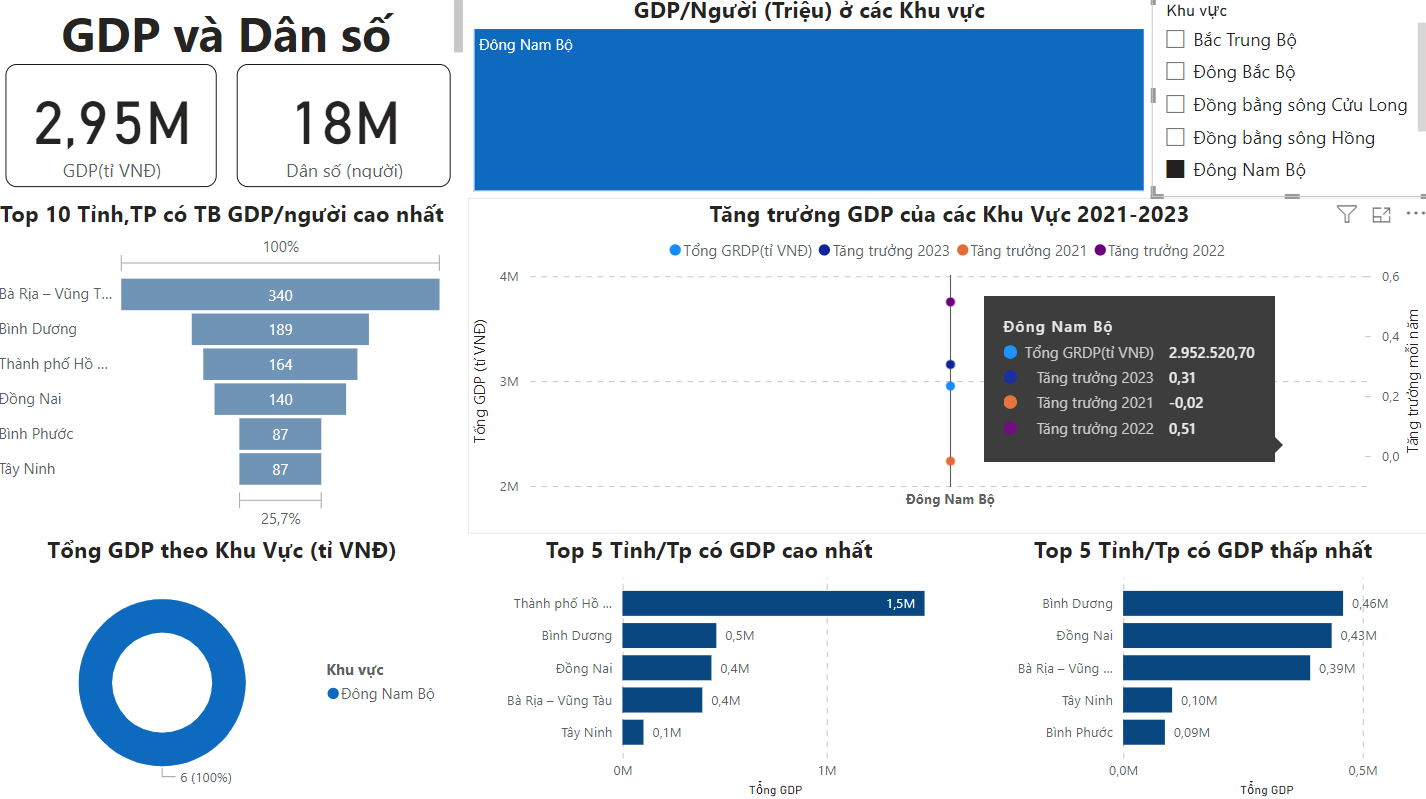

Layout of this report page (visuals, bound fields, positions):
{"tool":"powerbi","page":{"name":"Page 1","canvas":[1280,720],"ordinal":0},"visuals":[{"type":"card","fields":{"Values":["Sum(DS Tinh.Tổng GRDP(tỉ VNĐ))"]},"box":[10.9,62.7,188.1,109.7],"z":0},{"type":"card","fields":{"Values":["Sum(DS Tinh.Dân số (người))"]},"box":[217.1,62.7,190.6,109.7],"z":1000},{"type":"lineChart","title":"Tăng trưởng GDP của các Khu Vực 2021-2023","fields":{"Y":["Sum(DS Tinh.Tổng GRDP(tỉ VNĐ))"],"Y2":["Sum(DS Tinh.Tăng trưởng 2023)","Sum(DS Tinh.Tăng trưởng 2021)","Sum(DS Tinh.Tăng trưởng 2022)"],"Category":["DS Tinh.Khu vực"]},"box":[423.3,180.9,857.5,300.3],"z":2000},{"type":"donutChart","title":"Tổng GDP theo Khu Vực (tỷ VNĐ)","fields":{"Category":["DS Tinh.Khu vực"],"Y":["CountNonNull(DS Tinh.Tổng GRDP(tỉ VNĐ))"]},"box":[0,481.2,407.6,238.8],"z":3000},{"type":"barChart","title":"Top 5 Tỉnh/Tp có GDP cao nhất","fields":{"Category":["DS Tinh.Tên tỉnh, thành phố"],"Y":["Sum(DS Tinh.Tổng GRDP(tỉ VNĐ))"]},"box":[423.3,481.2,429.3,238.8],"z":4000},{"type":"barChart","title":"Top 5 Tỉnh/Tp có GDP thấp nhất","fields":{"Category":["DS Tinh.Tên tỉnh, thành phố"],"Y":["Sum(DS Tinh.Tổng GRDP(tỉ VNĐ))"]},"box":[873.2,481.2,407.6,238.8],"z":5000},{"type":"slicer","fields":{"Values":["DS Tinh.Khu vực"]},"box":[1031.2,0,249.6,180.9],"z":6000},{"type":"textbox","box":[0,0,423.3,61.5],"z":7000},{"type":"treemap","title":"GDP/Người (Triệu) ở các Khu vực","fields":{"Group":["DS Tinh.Khu vực"],"Values":["Sum(DS Tinh.GDP/Người (Triệu))"]},"box":[423.3,0,607.8,180.9],"z":8000},{"type":"funnel","title":"Top 10 Tỉnh,TP có GDP/người cao nhất","fields":{"Category":["DS Tinh.Tên tỉnh, thành phố"],"Y":["Avg(DS Tinh.GDP/Người (Triệu))"]},"box":[0,180.9,407.6,301.5],"z":9000}]}

Visuals, with their boxes in screenshot pixels (x1, y1, x2, y2), scaled from the page's 1280x720 canvas onto the 1426x799 screenshot:
card - Sum(DS Tinh.Tổng GRDP(tỉ VNĐ)): rect(12, 70, 222, 191)
card - Sum(DS Tinh.Dân số (người)): rect(242, 70, 454, 191)
"Tăng trưởng GDP của các Khu Vực 2021-2023" lineChart: rect(472, 201, 1425, 534)
"Tổng GDP theo Khu Vực (tỷ VNĐ)" donutChart: rect(0, 534, 454, 798)
"Top 5 Tỉnh/Tp có GDP cao nhất" barChart: rect(472, 534, 950, 798)
"Top 5 Tỉnh/Tp có GDP thấp nhất" barChart: rect(973, 534, 1425, 798)
slicer - DS Tinh.Khu vực: rect(1149, 0, 1425, 201)
textbox: rect(0, 0, 472, 68)
"GDP/Người (Triệu) ở các Khu vực" treemap: rect(472, 0, 1149, 201)
"Top 10 Tỉnh,TP có GDP/người cao nhất" funnel: rect(0, 201, 454, 535)
